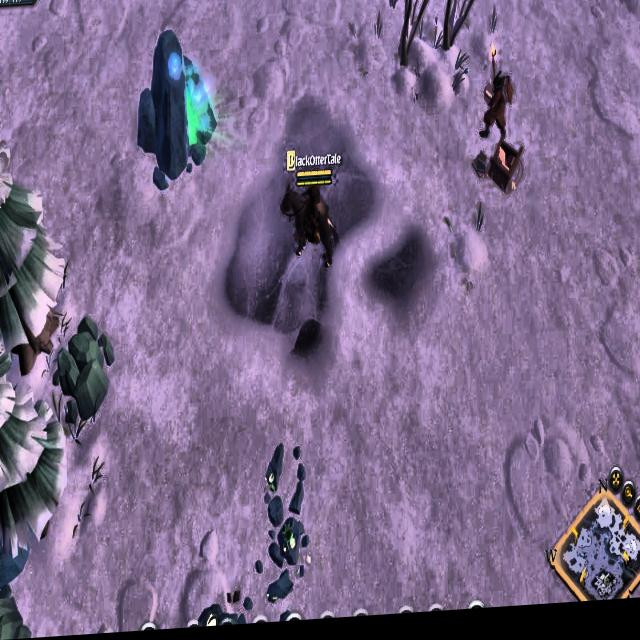sandstone: (54, 311, 113, 426), (0, 594, 29, 640)
